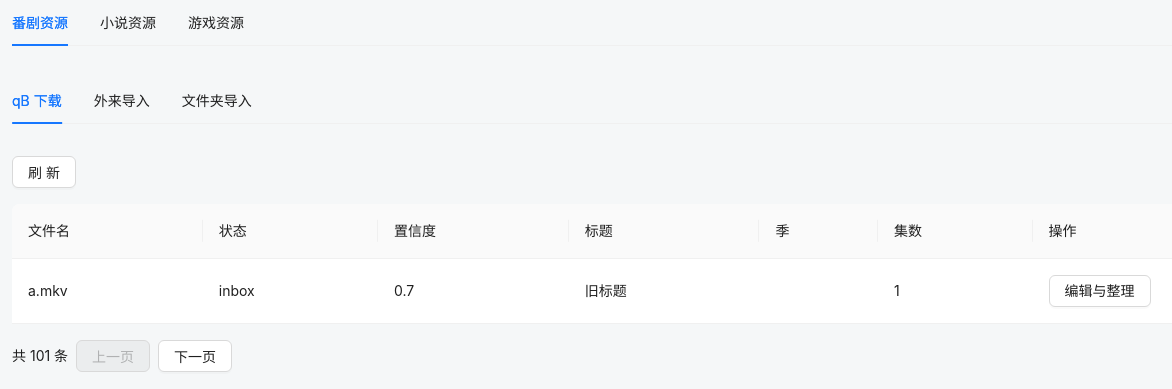
Test case: loads the next inbox page from the server
Expected: the button with aria-label "编辑 旧标题" is shown, [1049, 275, 1151, 307]
Click the button "下一页".
click(195, 356)  # box [158, 340, 232, 372]
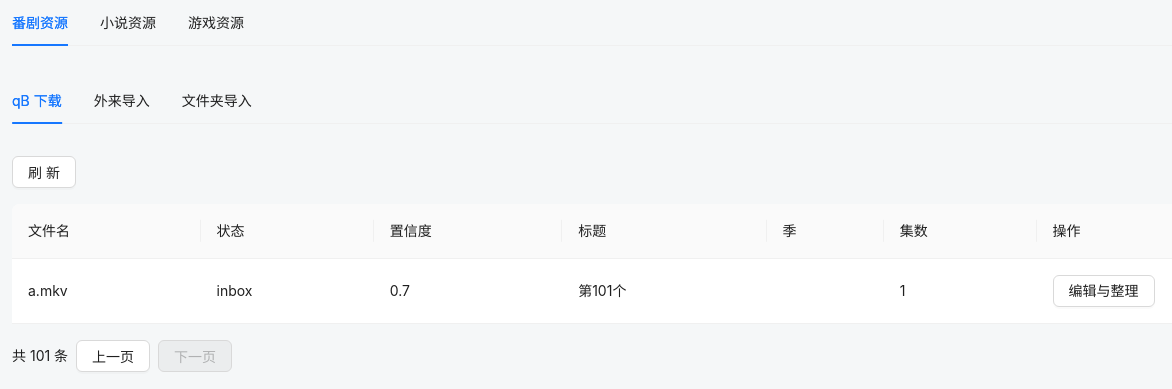
Now the button with aria-label "编辑 第101个" is shown, box [1053, 275, 1155, 307]
